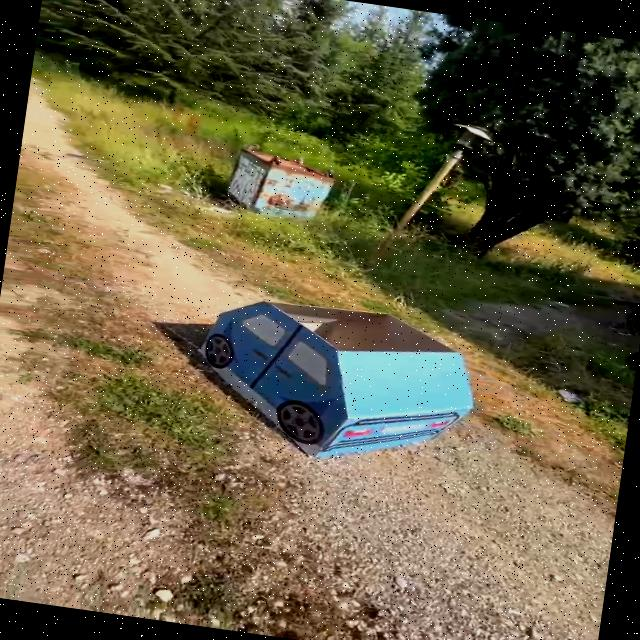blue_car: (159, 274, 506, 492)
